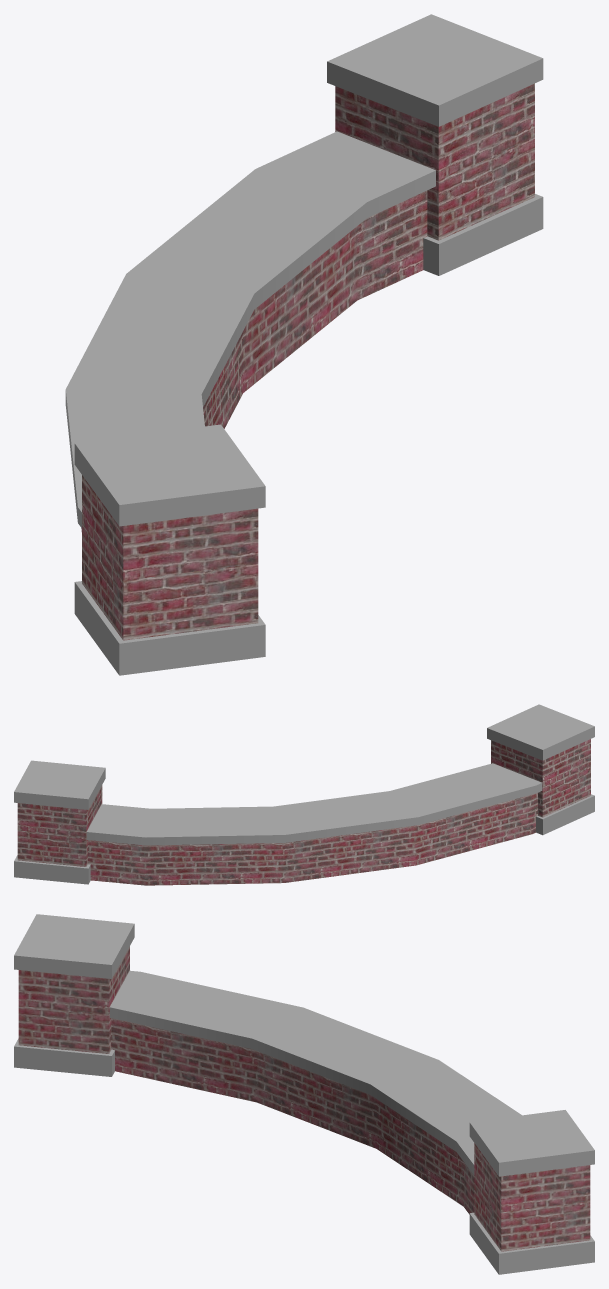
Rendered from Wall_Brick_Curved.obj.
3 renders of one model, top to bottom at view 1: azimuth 30°, elevation 25°; view 2: azimuth 150°, elevation 25°; view 3: azimuth 270°, elevation 25°, orthographic. The views are drawn at different scales.
Visible parts, largest first — view 1: Mesh1 wall_curved Model, Mesh3 wall_end2 Model, Mesh2 wall_end1 Model; view 2: Mesh1 wall_curved Model, Mesh2 wall_end1 Model, Mesh3 wall_end2 Model; view 3: Mesh1 wall_curved Model, Mesh2 wall_end1 Model, Mesh3 wall_end2 Model.
Boxes of the visible parts, bbox=[...] form: Mesh1 wall_curved Model: bbox=[65, 131, 435, 531]; Mesh3 wall_end2 Model: bbox=[74, 424, 265, 675]; Mesh2 wall_end1 Model: bbox=[327, 14, 543, 275]; Mesh1 wall_curved Model: bbox=[86, 763, 542, 885]; Mesh2 wall_end1 Model: bbox=[14, 760, 105, 884]; Mesh3 wall_end2 Model: bbox=[487, 704, 594, 835]; Mesh1 wall_curved Model: bbox=[109, 970, 521, 1214]; Mesh2 wall_end1 Model: bbox=[469, 1110, 594, 1274]; Mesh3 wall_end2 Model: bbox=[14, 914, 134, 1076].
Size of the model in its own units: 152 by 32 by 150.
2 materials, 1 textured.
